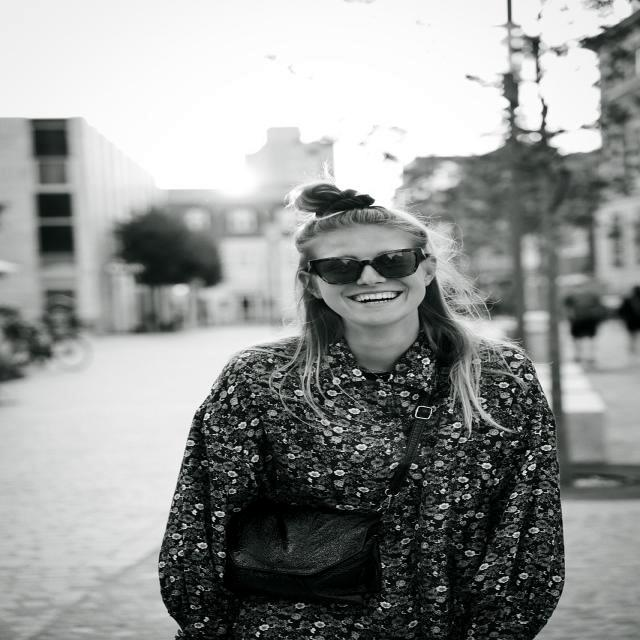no_head_wear: (290, 184, 474, 418), (304, 273, 345, 370)
person: (158, 183, 562, 638)
